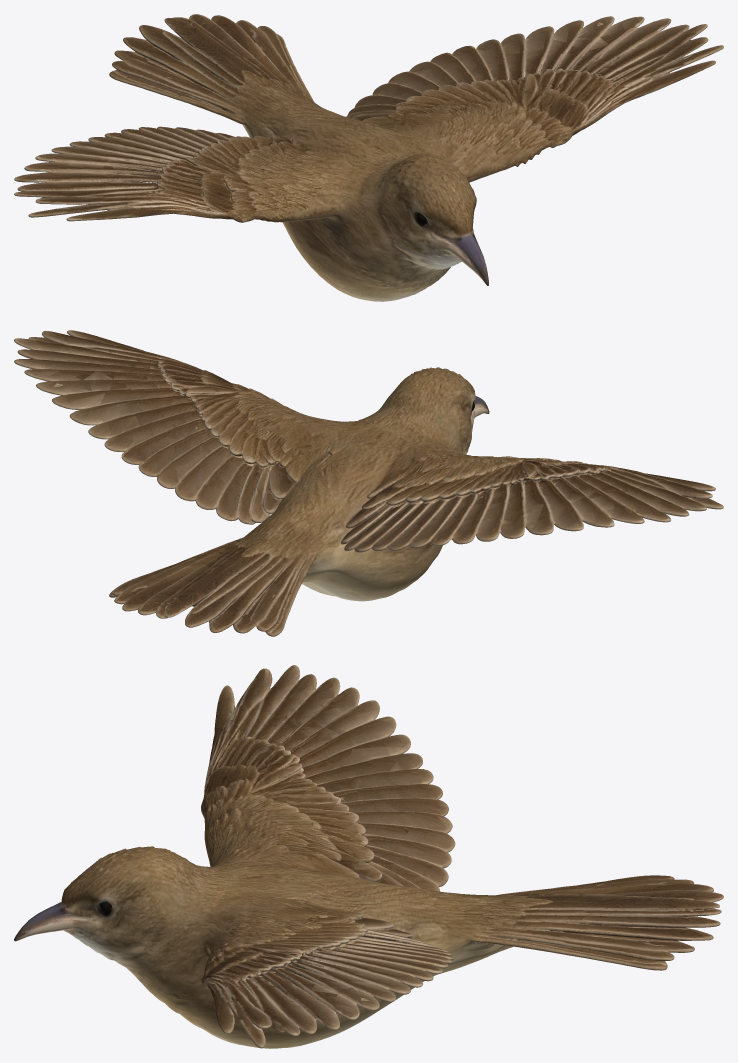
Rendered from Arundinax_aedon.glb.
The picture shows the model from 3 angles, top to bottom: view 1: azimuth 30°, elevation 25°; view 2: azimuth 150°, elevation 25°; view 3: azimuth 270°, elevation 25°; orthographic projection. The views are drawn at different scales.
Parts seen in each view (by area): view 1: orient; view 2: orient; view 3: orient.
Part boxes in pixels (x1=…): orient: x1=14, y1=14, x2=723, y2=301; orient: x1=14, y1=330, x2=723, y2=636; orient: x1=14, y1=665, x2=723, y2=1048.
Size of the model in its own units: 0.5001 by 0.1204 by 0.4034.
1 material, 1 textured.
